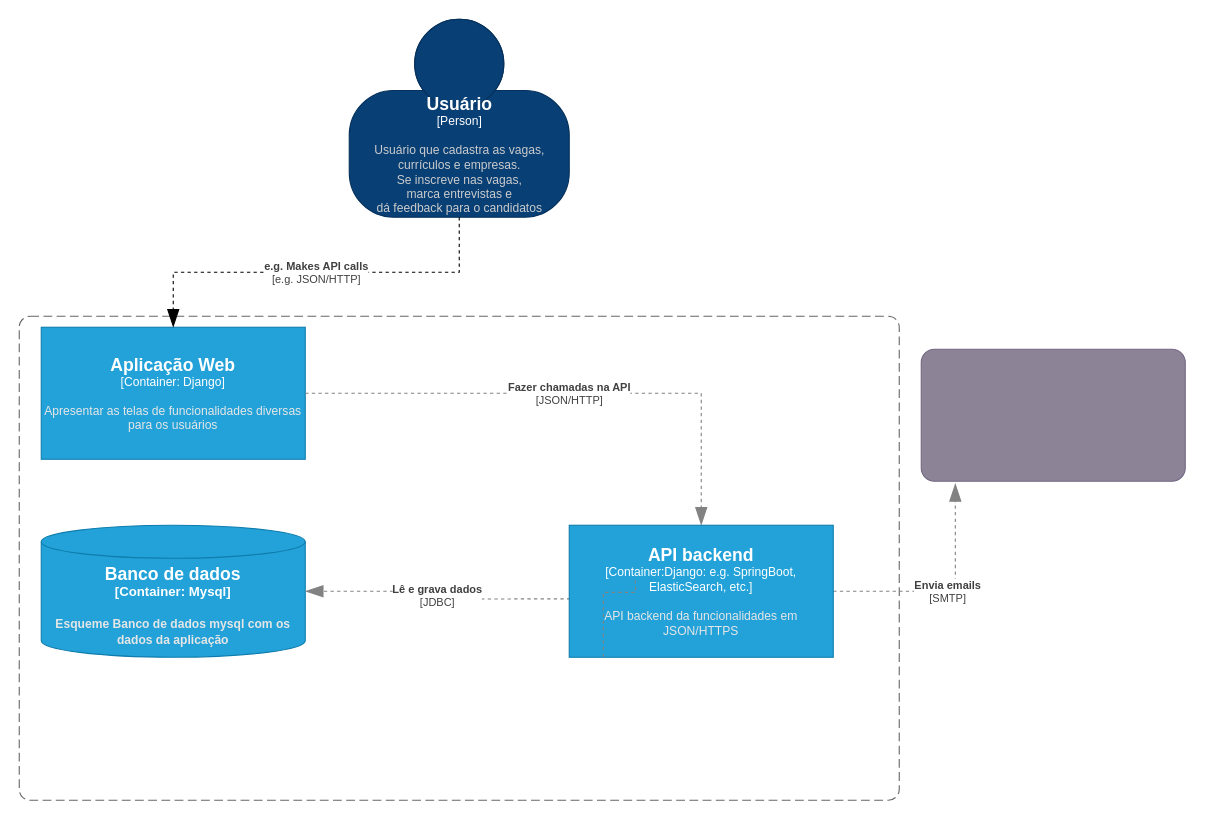
Some shapes in this 1205 by 820 pixel diagram are drawn without their labels. The shapes that lost their labels are listed below. From the top down, each one's box as (x1, y1, x2, y2) in pixels, then its label:
(920, 348, 1185, 481): Sistema de emails [Software System] Servidor SMTP
(18, 315, 899, 800): Erijobs [Software System ]
